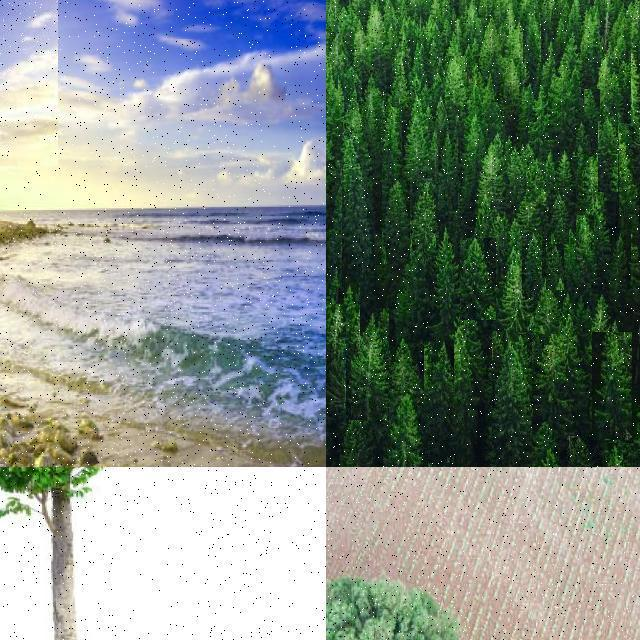tree: (0, 467, 212, 640), (326, 567, 497, 640), (0, 0, 58, 166), (492, 331, 532, 467), (344, 137, 374, 289), (540, 321, 584, 423), (592, 332, 632, 440), (351, 308, 389, 420), (396, 234, 434, 340), (424, 341, 454, 463), (451, 319, 477, 453), (383, 389, 425, 467), (388, 335, 422, 425), (460, 238, 496, 320), (432, 228, 460, 322), (334, 412, 378, 468), (500, 248, 528, 332), (382, 180, 410, 264), (459, 114, 486, 194), (619, 125, 640, 226), (326, 160, 342, 288), (403, 111, 432, 181), (326, 304, 346, 402), (326, 338, 346, 434), (584, 294, 610, 366), (584, 198, 612, 264), (326, 300, 342, 412), (550, 53, 574, 127), (336, 283, 360, 355), (362, 70, 386, 142), (412, 181, 436, 251), (478, 142, 506, 202), (607, 232, 629, 308), (326, 208, 344, 300), (326, 312, 340, 430), (326, 102, 346, 184), (438, 130, 458, 210), (534, 278, 562, 334), (598, 116, 618, 192), (382, 102, 402, 178), (529, 84, 551, 152), (466, 194, 494, 244), (326, 302, 342, 384), (576, 215, 594, 283), (522, 230, 542, 290), (445, 56, 467, 110), (481, 75, 501, 133), (480, 14, 500, 72), (562, 227, 580, 290), (326, 195, 340, 273), (584, 155, 604, 209), (567, 436, 599, 468), (326, 62, 344, 118), (551, 190, 569, 244), (507, 142, 525, 196), (518, 186, 538, 234), (501, 58, 521, 106), (631, 209, 640, 315), (344, 89, 362, 139), (523, 13, 541, 63), (546, 242, 564, 290), (542, 146, 558, 198), (604, 443, 638, 467), (526, 162, 546, 202), (392, 57, 408, 107), (598, 54, 614, 102), (572, 119, 592, 157), (631, 42, 640, 126), (326, 27, 338, 89), (327, 120, 338, 186), (327, 154, 338, 218), (558, 151, 574, 193), (326, 216, 336, 274), (326, 118, 338, 166), (553, 18, 567, 58), (326, 262, 338, 306), (584, 89, 600, 121), (326, 86, 334, 134), (570, 67, 582, 97), (619, 59, 631, 85), (326, 274, 334, 310)
